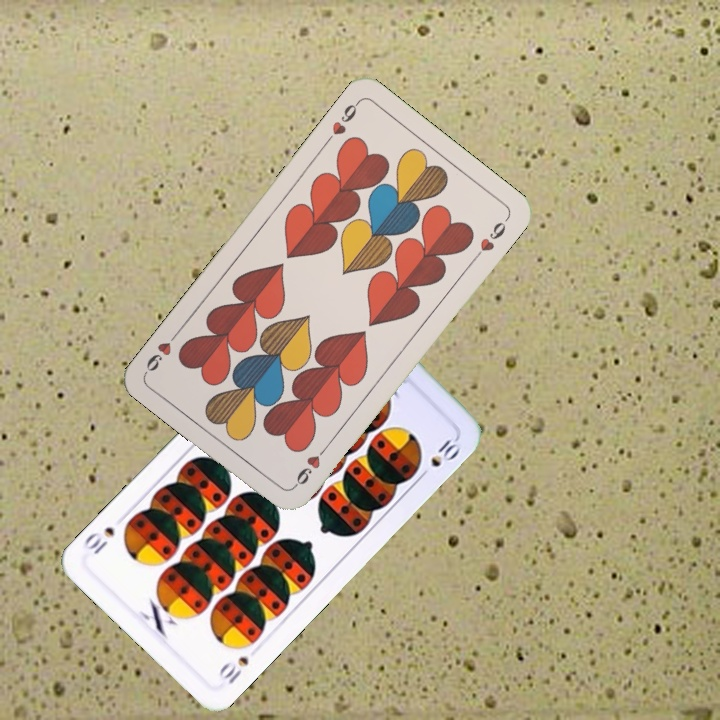H9: (288, 441, 331, 491), (321, 97, 362, 147)
S10: (215, 652, 252, 687)
